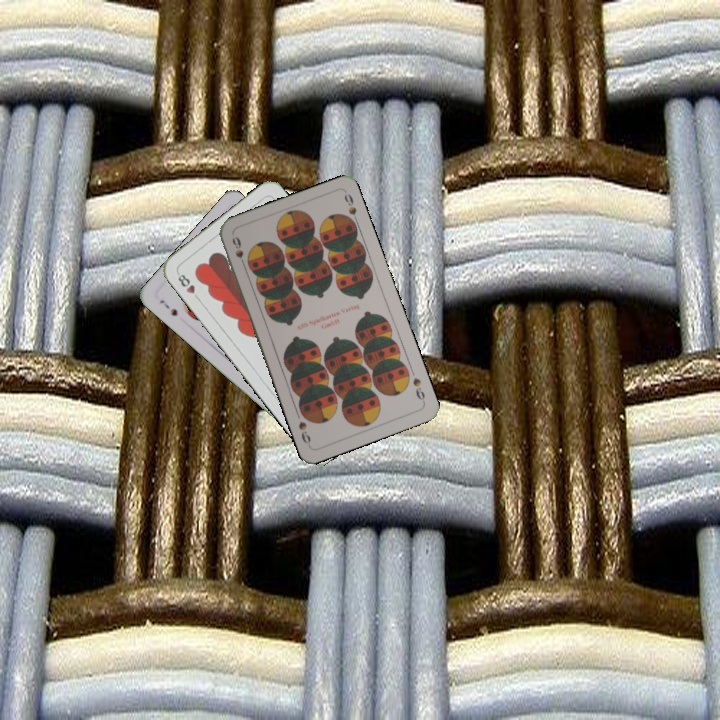H8: (173, 269, 203, 303)
S7: (155, 296, 180, 319)
S9: (228, 232, 249, 271), (409, 374, 427, 406)
